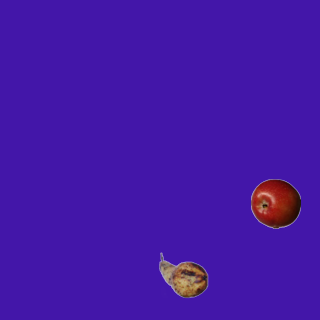Apple Braeburn: (250, 178, 300, 228)
Pear Abate: (158, 250, 208, 300)
